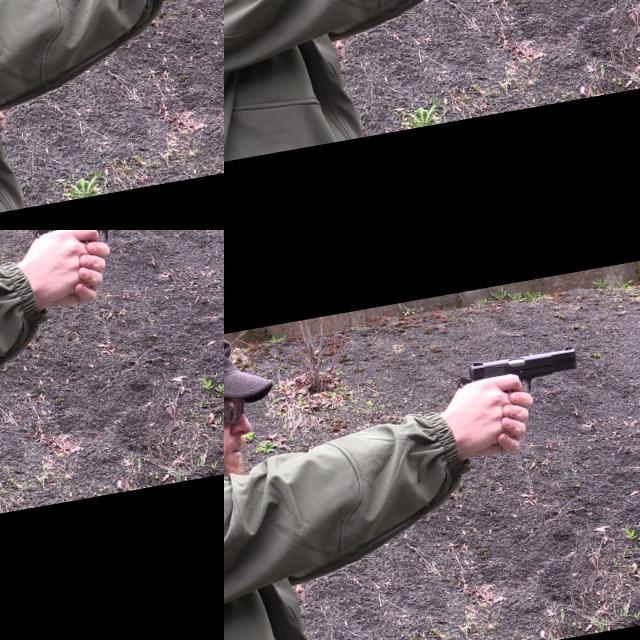handgun: (0, 0, 224, 230), (472, 0, 640, 67), (450, 337, 585, 407), (0, 267, 16, 282)
